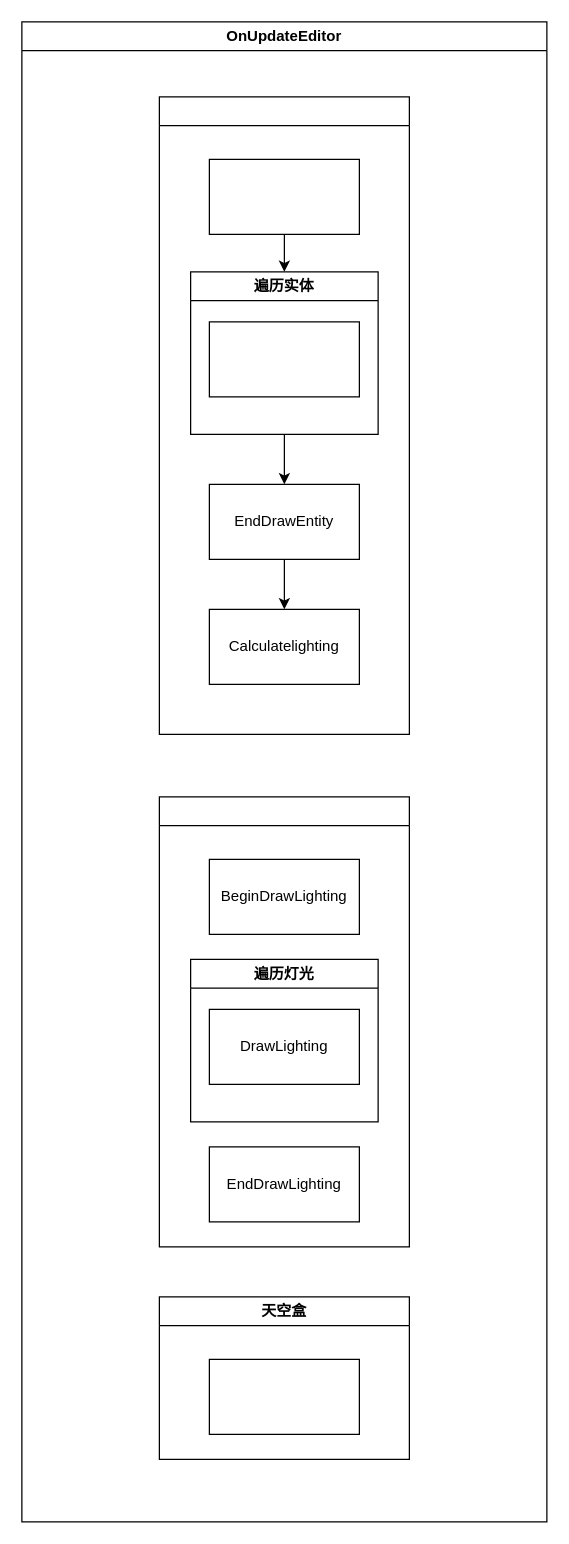
The diagram is 569 pixels wide and 1544 high, and some of its shapes have lost their labels. Each missing label, with the box of its shape:
BeginDrawEntity: (208, 158, 359, 234)
DrawEntity: (208, 321, 359, 397)
ShowSkyBox: (208, 1358, 359, 1434)
渲染灯光: (158, 796, 409, 1247)
渲染物体: (158, 96, 409, 734)
